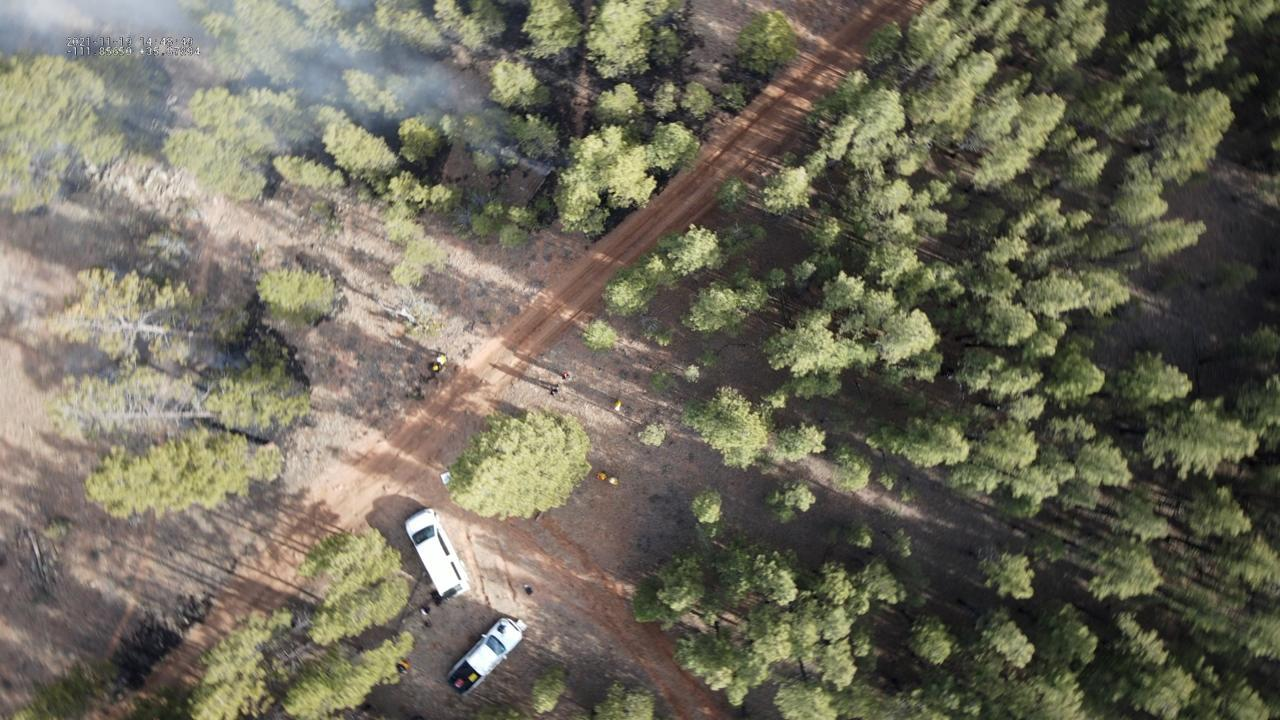smoke: (0, 0, 562, 180)
